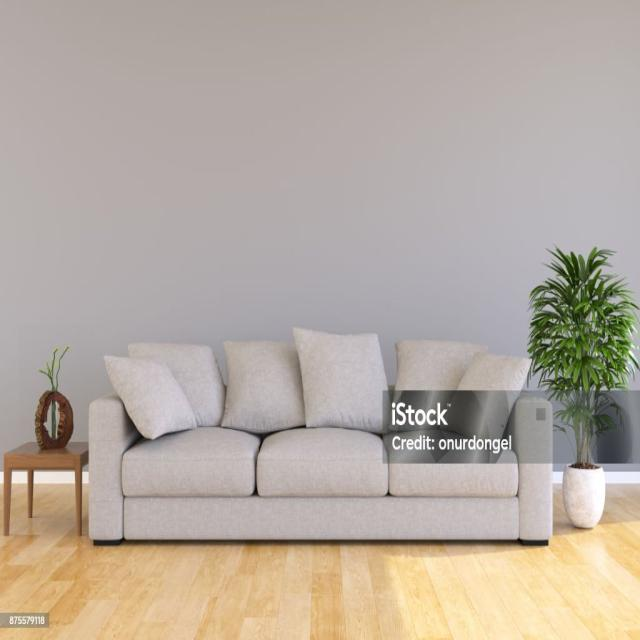back_cushion: (105, 328, 530, 438)
base: (91, 495, 528, 540)
left_arm: (509, 393, 552, 541)
right_arm: (89, 393, 141, 542)
seat_cushion: (119, 427, 524, 497)
stallion-sofa1: (0, 0, 639, 638)
